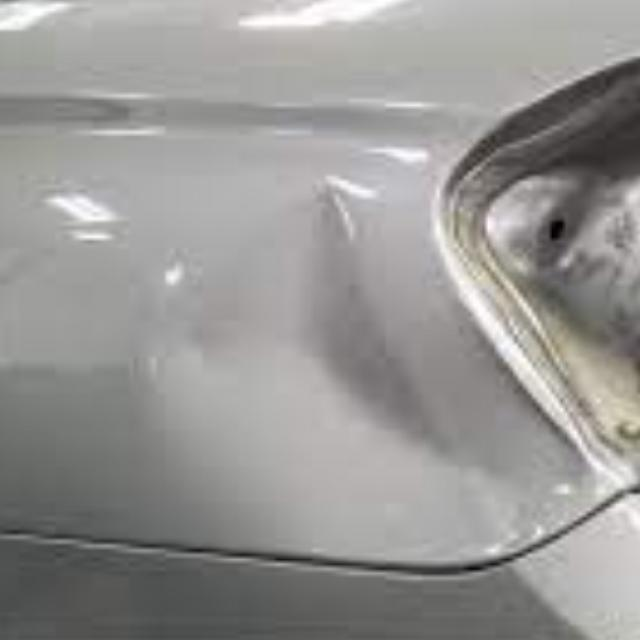dents: (137, 178, 426, 561)
